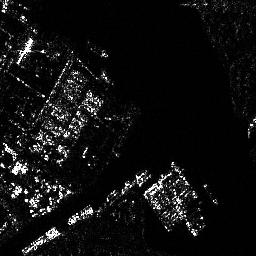ship: (21, 224, 60, 255)
